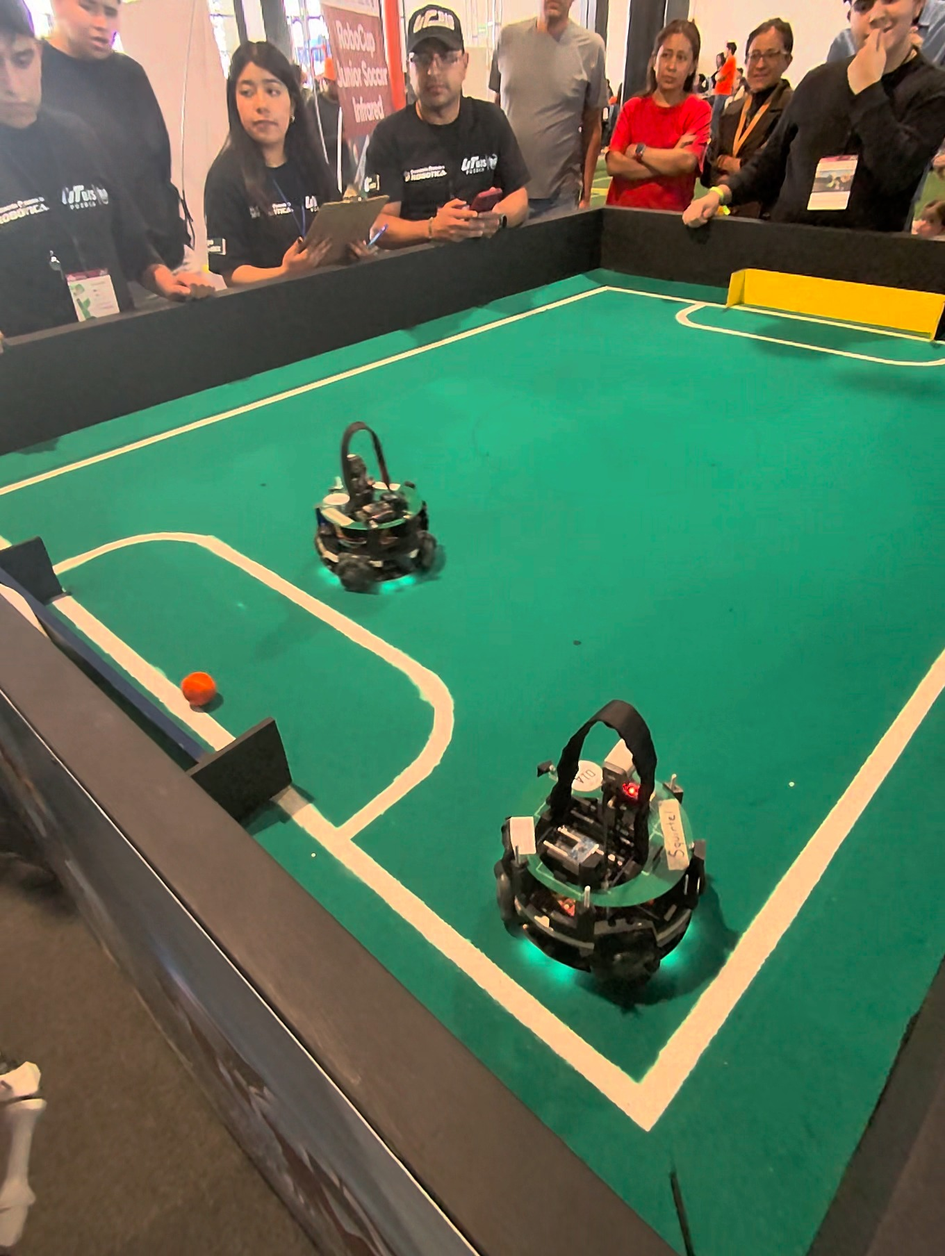Robot: (483, 680, 719, 1006), (312, 422, 436, 602)
pelota: (186, 673, 220, 709)
